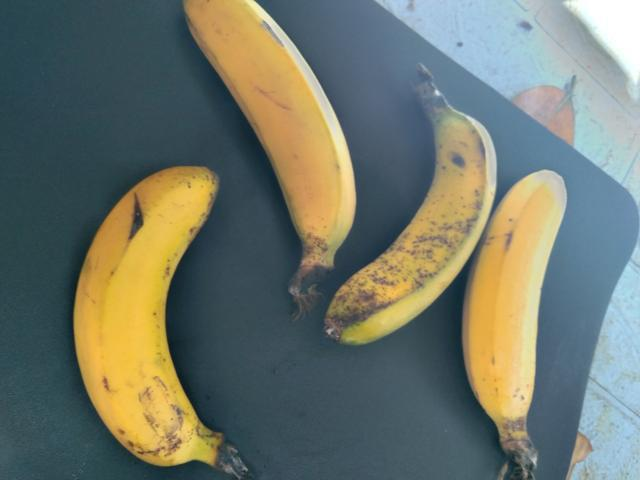freshripe: (456, 160, 594, 475), (186, 0, 366, 231)
ripe: (46, 140, 294, 479), (331, 99, 499, 361)
